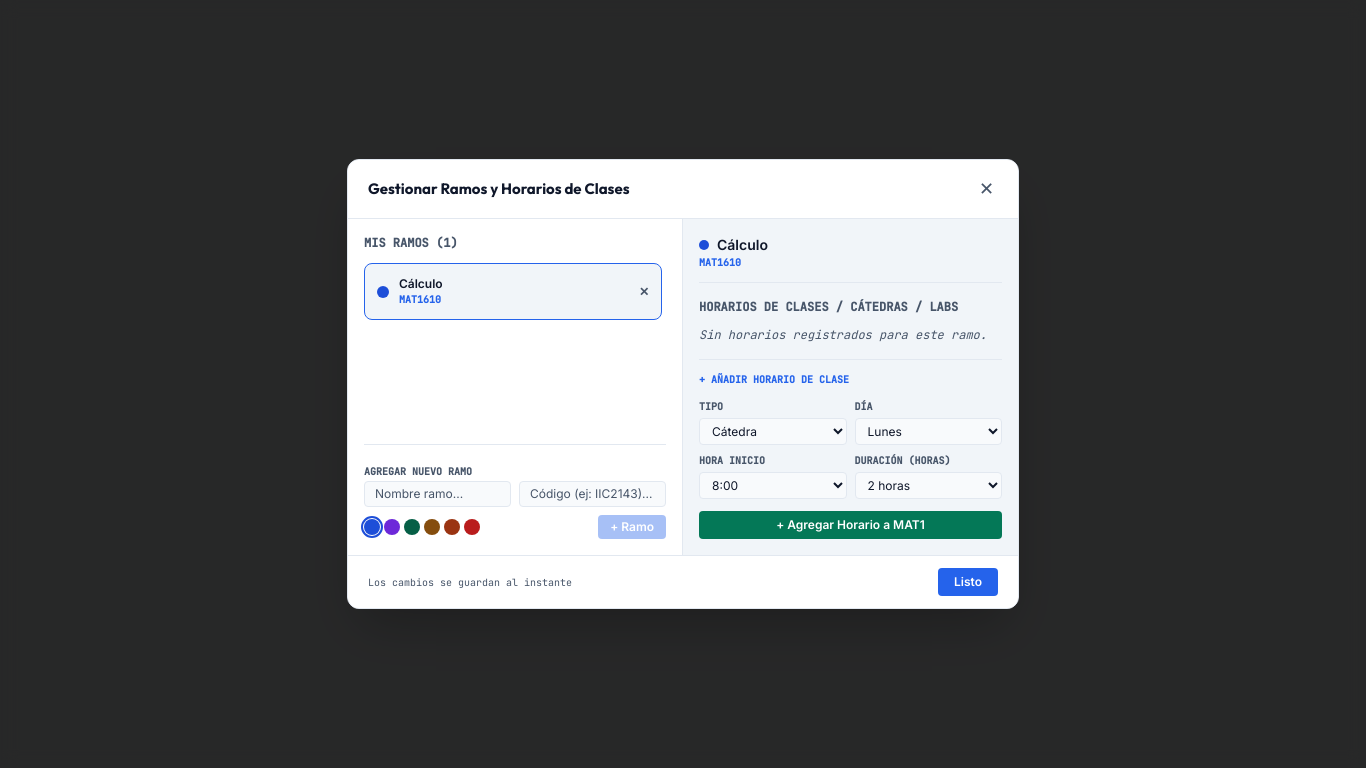
Test: Modal compartido — ARIA, teclado y gestión de foco › respeta closeOnBackdropClick=false y closeOnEscape=false, y en modales anidados Escape cierra solo el superior
Earlier steps of the test are not shown.
Click the button named "Eliminar ramo Cálculo": (644,292) 631,276 -> 657,308
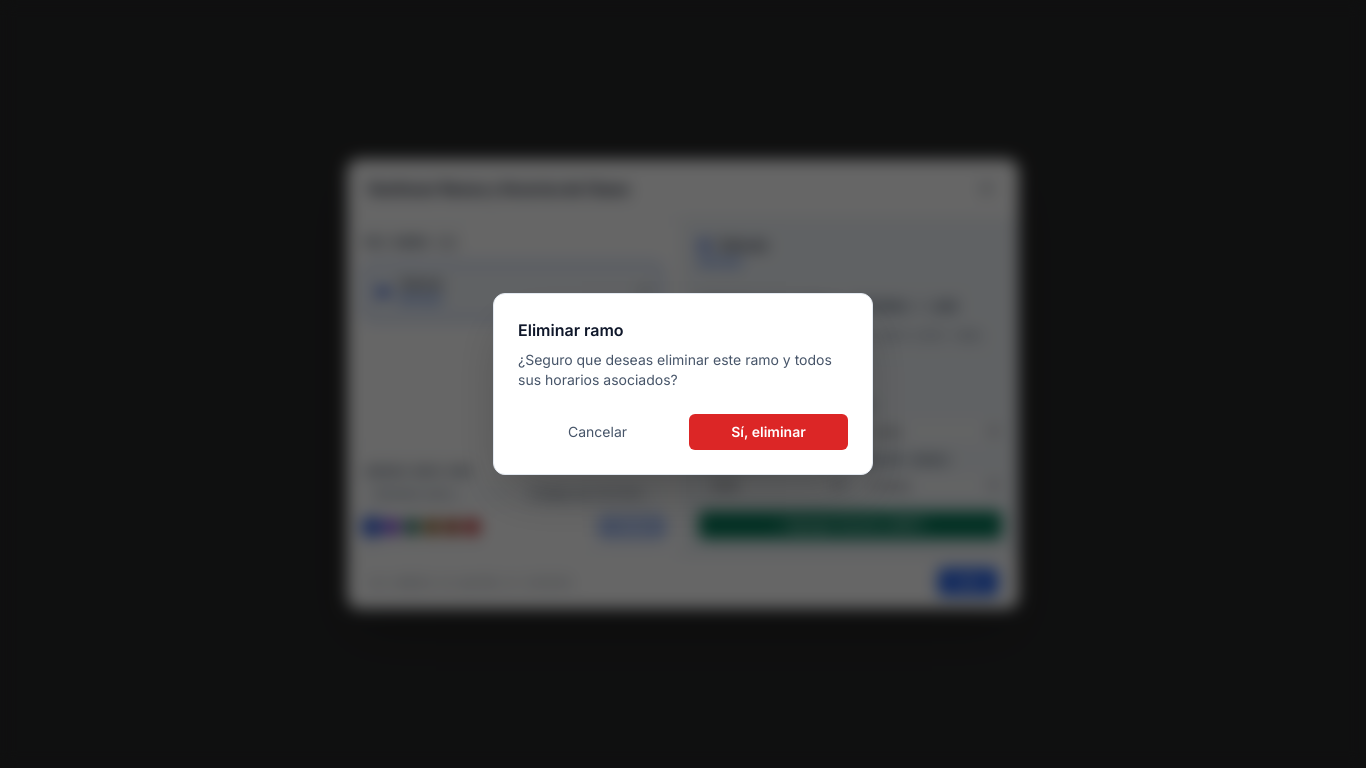
Check: the dialog "Eliminar ramo" is shown, box 493,293 -> 873,475
Press Escape
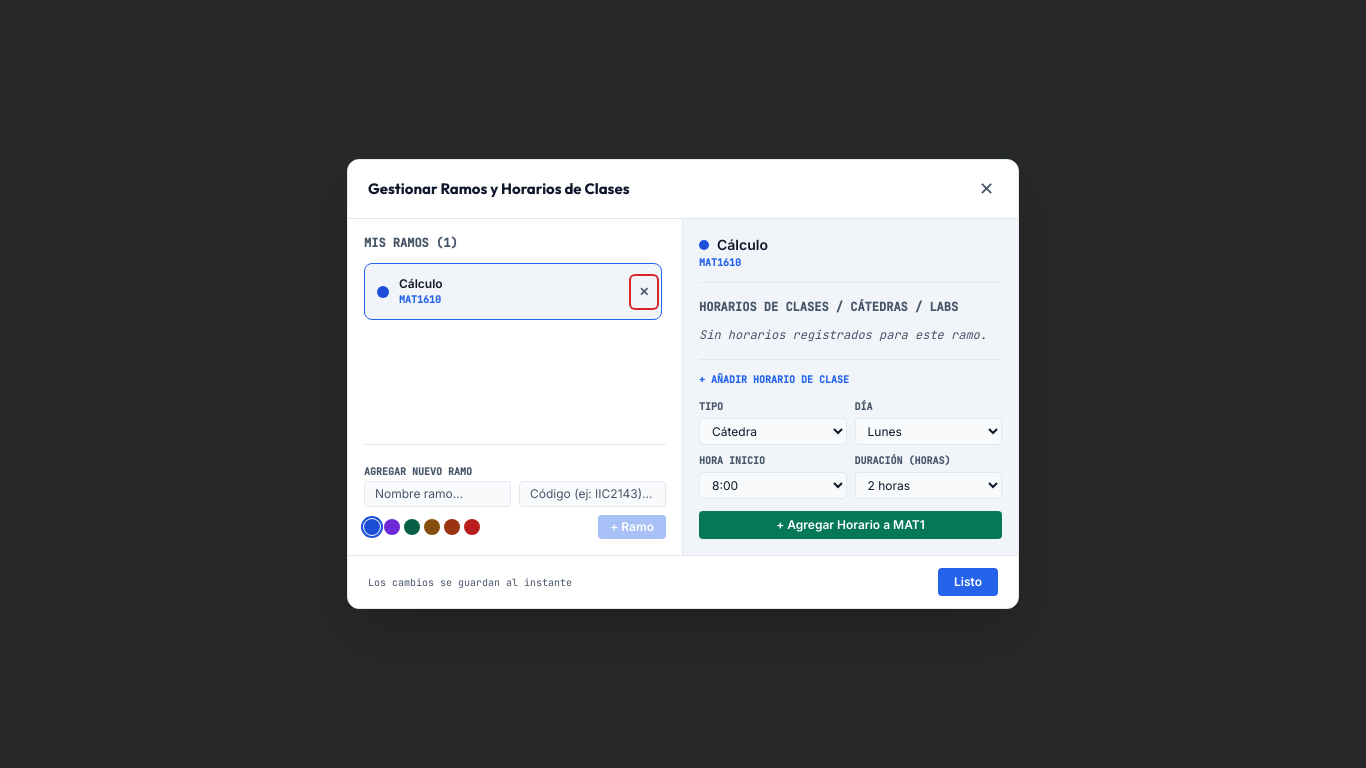
Check: the dialog "Gestionar Ramos y Horarios de Clases" is shown, box 347,159 -> 1019,609
Check: the heading "Eliminar ramo" is gone
